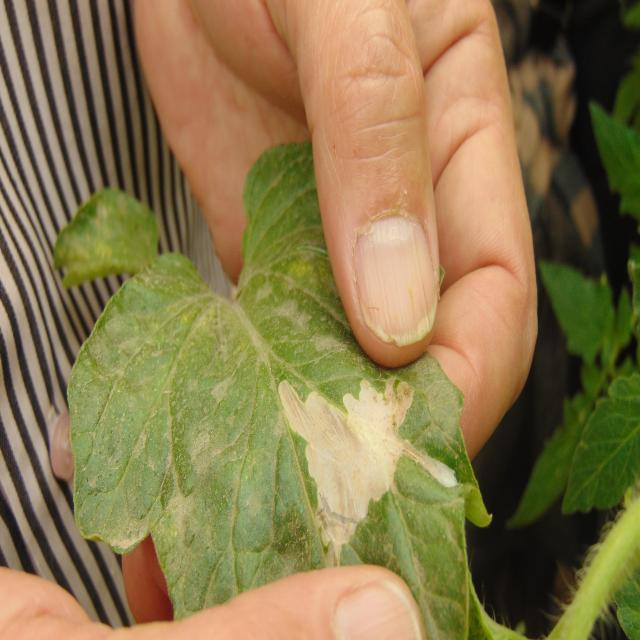Tuta absoluta: (278, 377, 416, 550)
